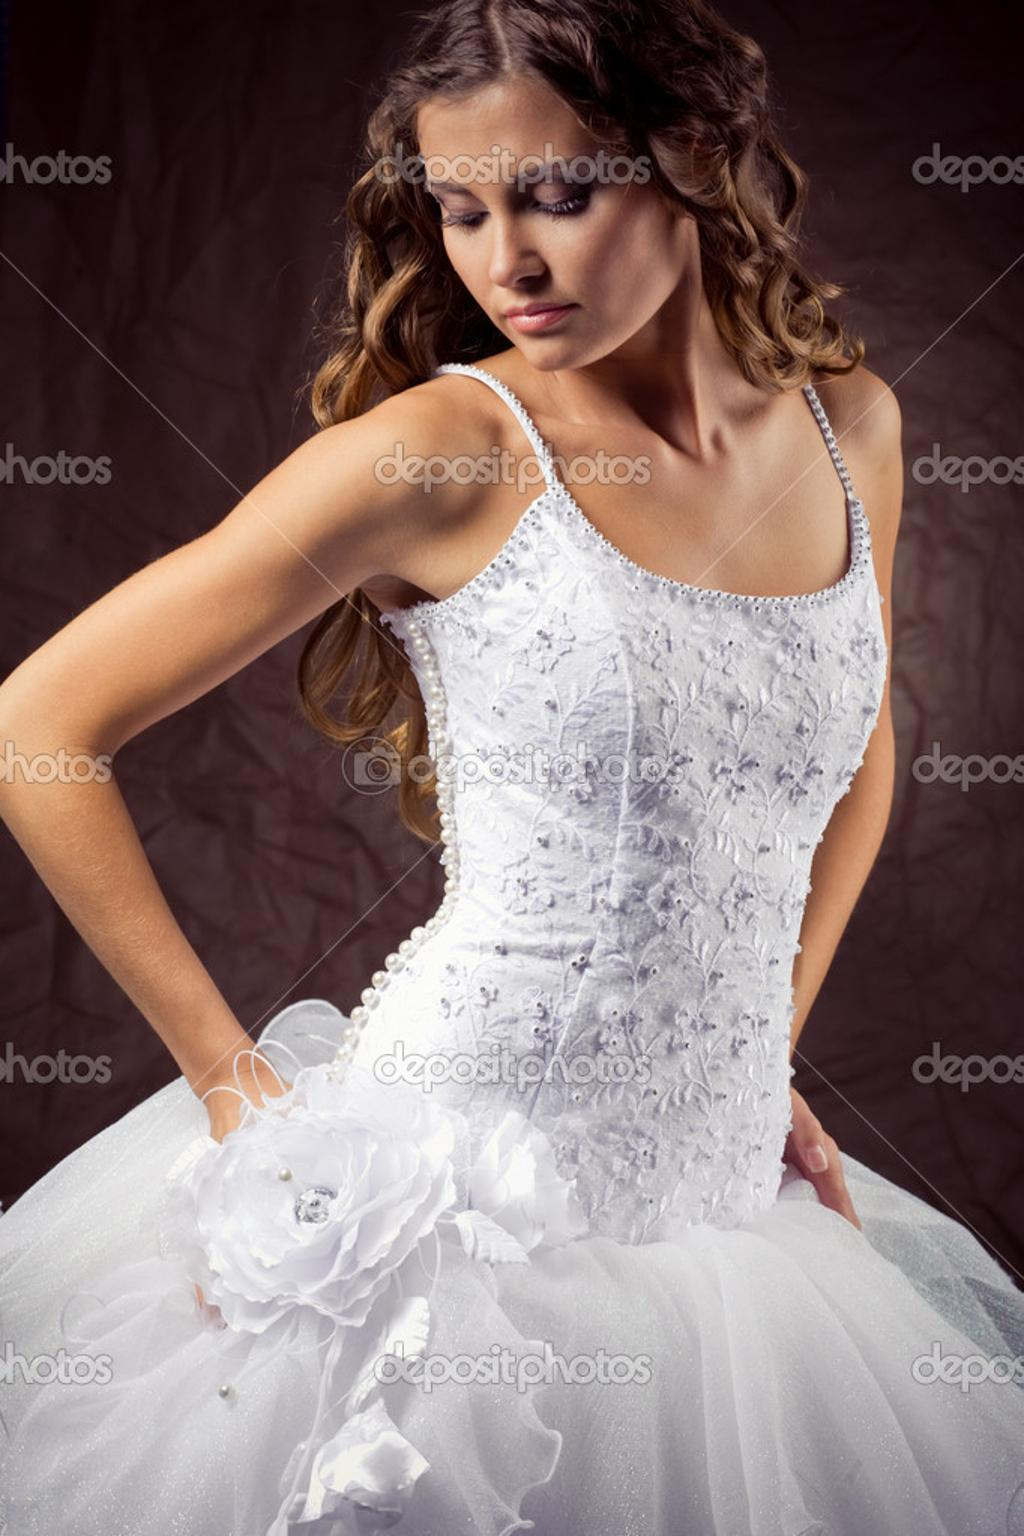face: (411, 78, 699, 369)
